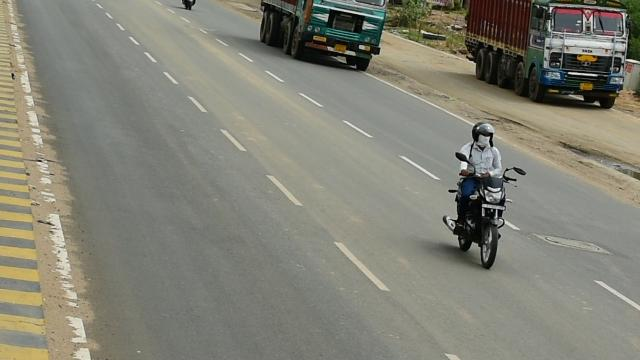With Helmet: (468, 118, 500, 148)
